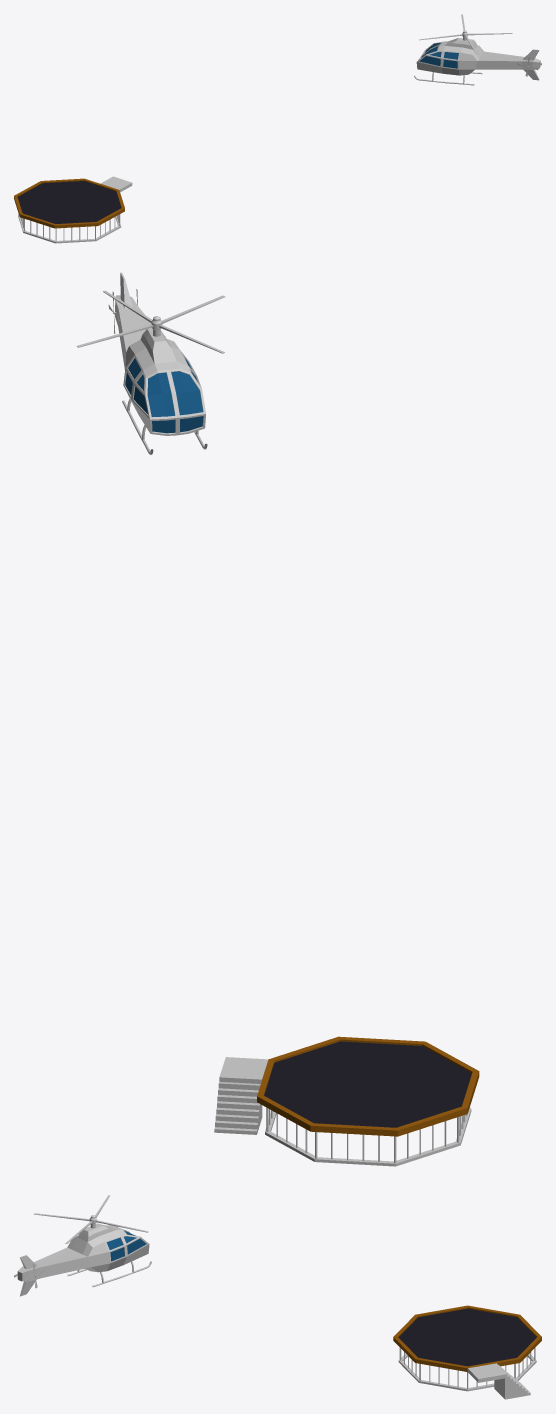
Rendered from copter_000127.obj.
3 views of the same model, one above another, from view 1: azimuth 30°, elevation 25°; view 2: azimuth 150°, elevation 25°; view 3: azimuth 270°, elevation 25° (orthographic). The views are drawn at different scales.
Parts seen in each view (by area): view 1: Cylinder.001_Cylinder.012, Helicopter.007_Cylinder.008, Helicopter.001_Cylinder.001; view 2: Cylinder.001_Cylinder.012, Helicopter.007_Cylinder.008, Helicopter.001_Cylinder.001; view 3: Cylinder.001_Cylinder.012, Helicopter.007_Cylinder.008, Helicopter.001_Cylinder.001.
Part boxes in pixels (<box>): Cylinder.001_Cylinder.012: <box>14,176,132,243</box>; Helicopter.007_Cylinder.008: <box>414,38,540,85</box>; Helicopter.001_Cylinder.001: <box>419,14,512,54</box>; Cylinder.001_Cylinder.012: <box>214,1036,479,1166</box>; Helicopter.007_Cylinder.008: <box>115,272,207,454</box>; Helicopter.001_Cylinder.001: <box>77,290,225,353</box>; Cylinder.001_Cylinder.012: <box>393,1305,541,1399</box>; Helicopter.007_Cylinder.008: <box>17,1223,151,1296</box>; Helicopter.001_Cylinder.001: <box>33,1195,148,1243</box>.
Size of the model in its own units: 23.84 by 15.32 by 24.06.
